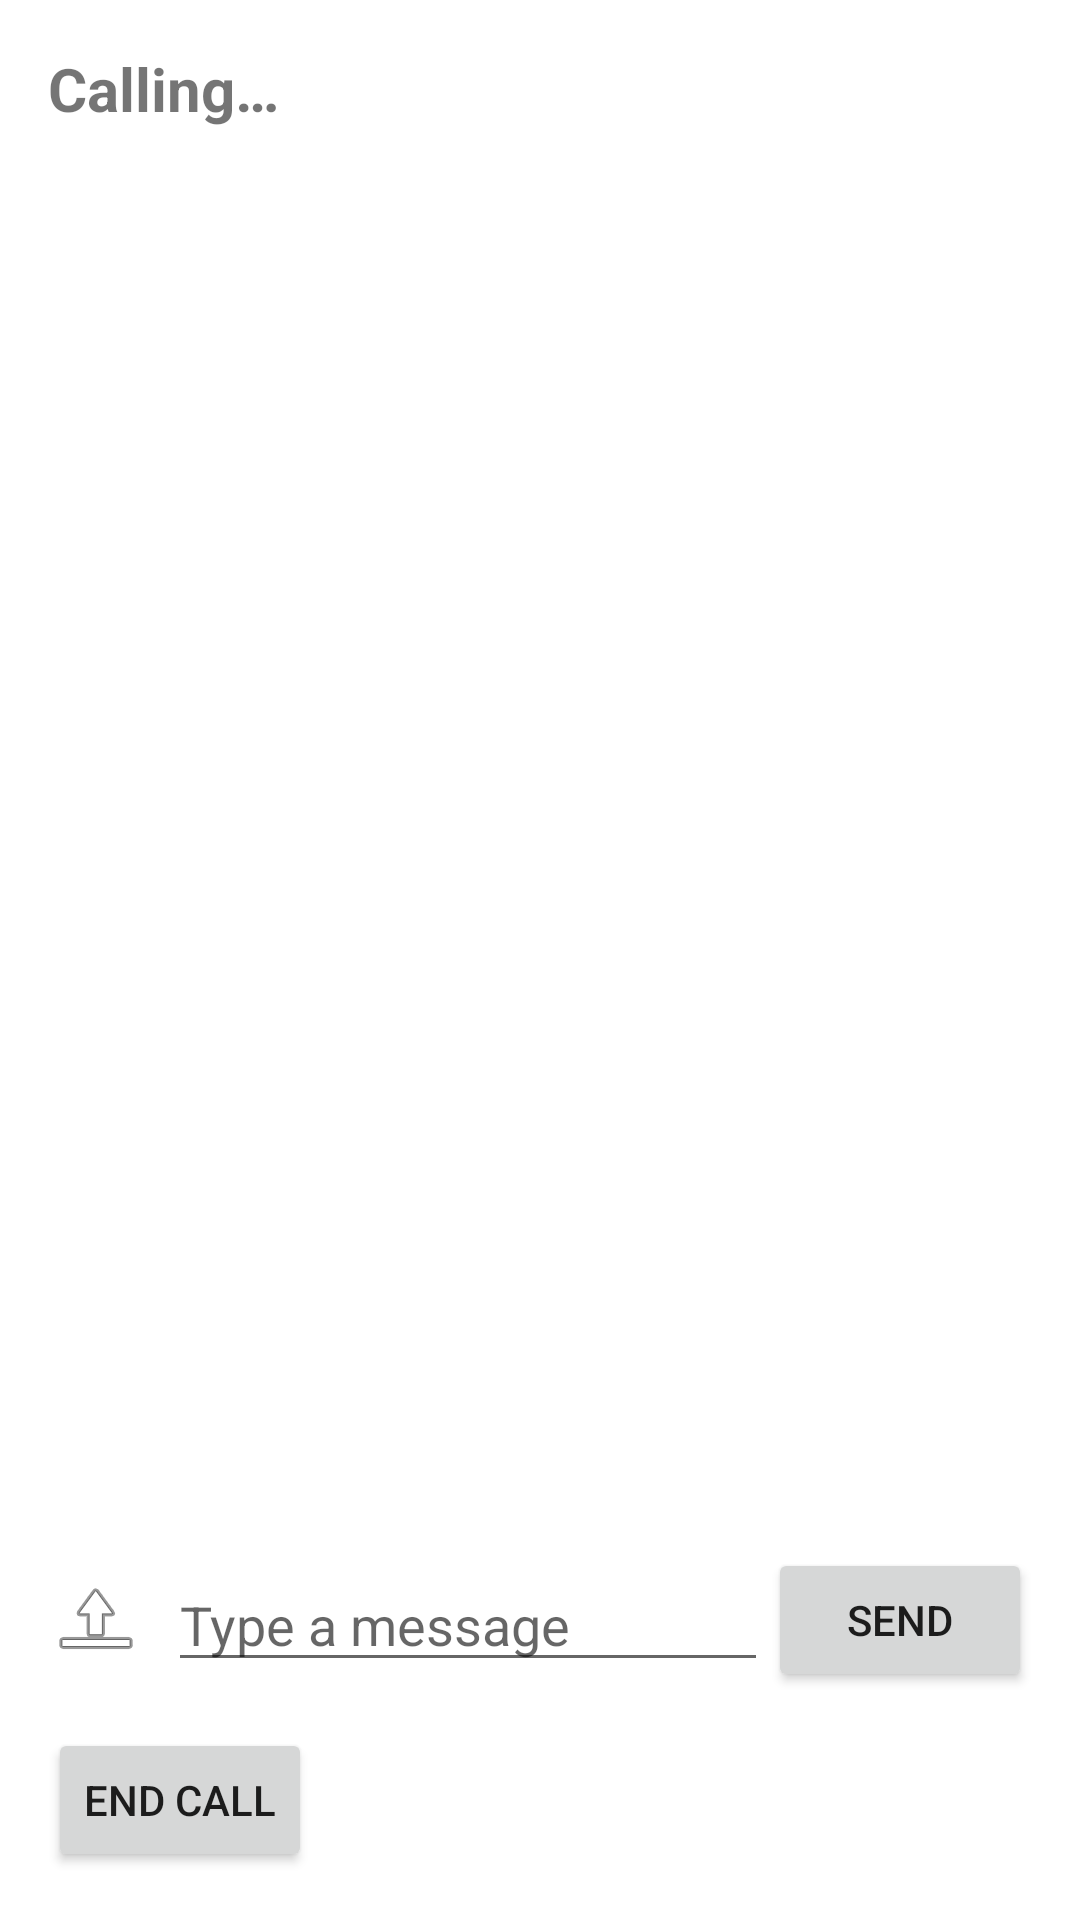

Screen size 1080px×1920px. Icon name, then its box in pixels as (x1, y1, x2, y2):
Attach file: (59, 1588, 133, 1649)
